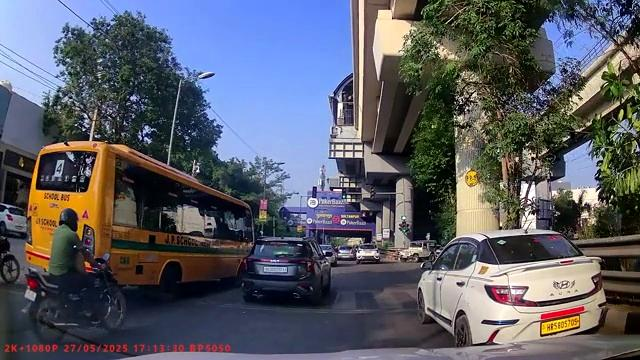motorcycle_with_helmet: (25, 205, 131, 341)
